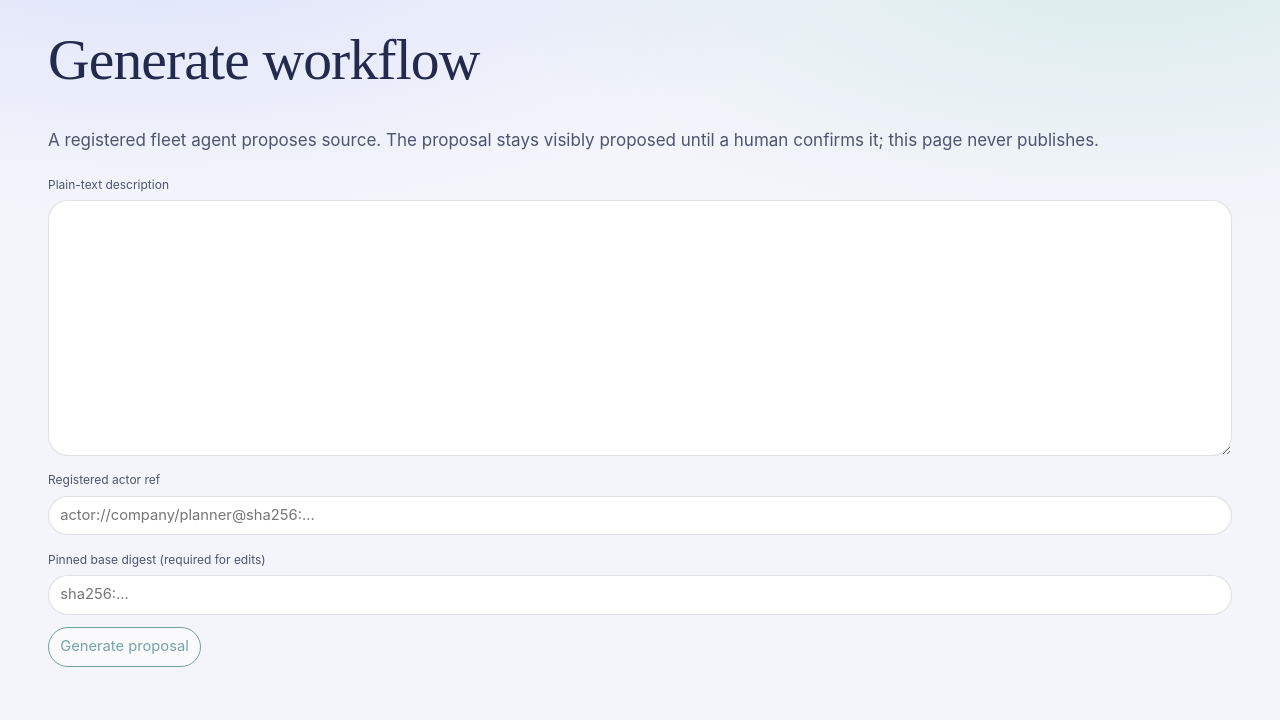
GenerateWorkflow › says the agent is still working when no source has arrived yet
The image size is (1280, 720).
Type "sweep open PRs and triage them" into the text box labelled "Plain-text description".
click(640, 328); type("sweep open PRs and triage them")  # box [48, 200, 1232, 456]
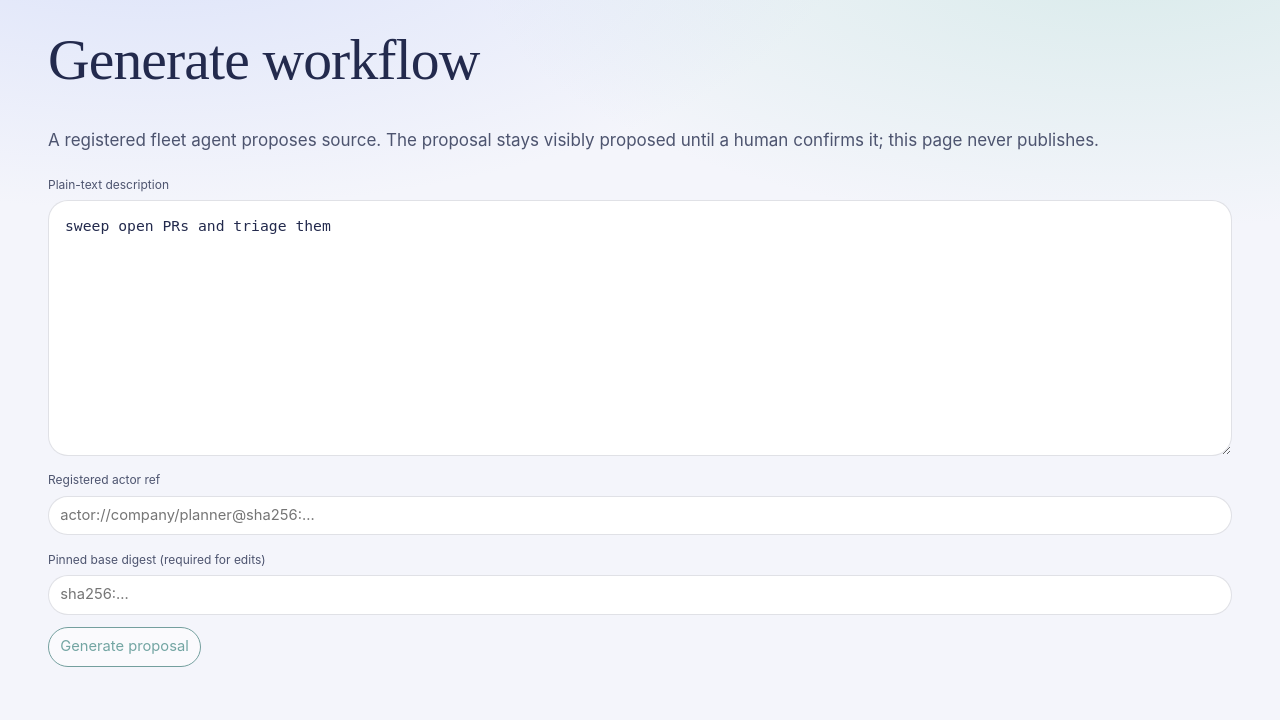
Type "actor://company/planner@sha256:aaaa" into the field labelled "Registered actor ref".
click(640, 515); type("actor://company/planner@sha256:aaaa")  # box [48, 496, 1232, 535]
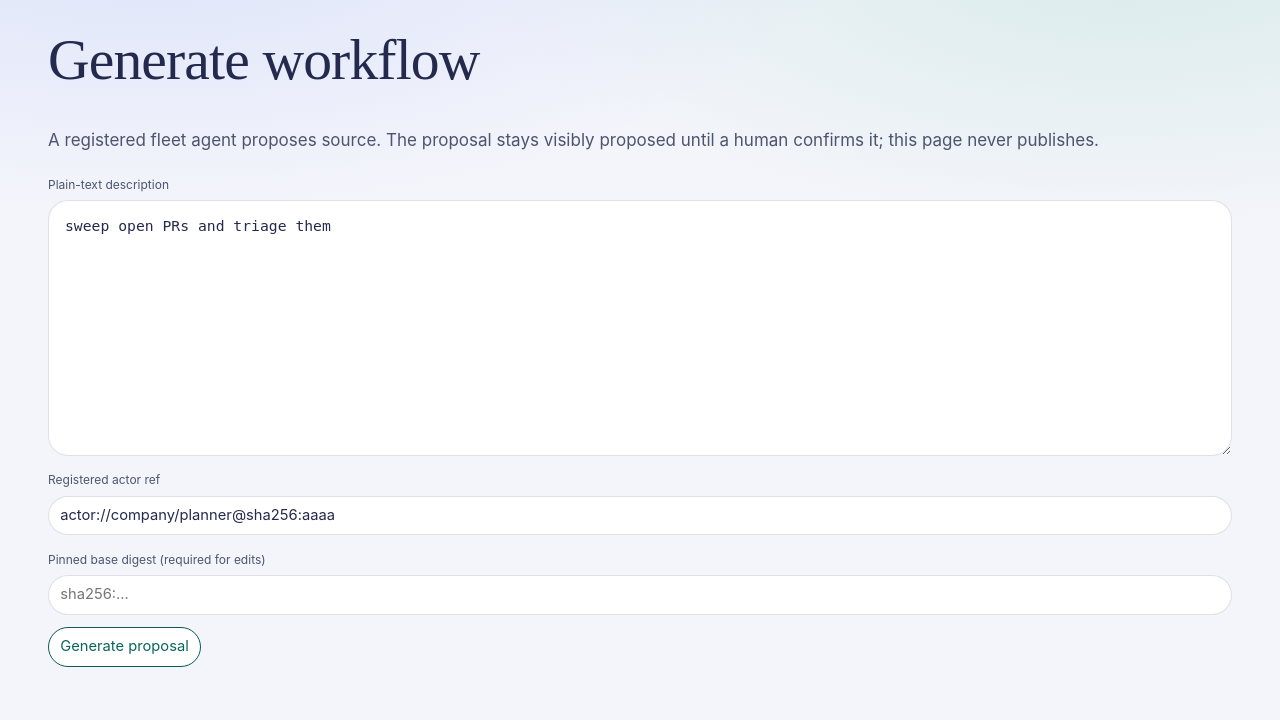
Click the button "Generate proposal".
click(124, 647)  # box [48, 627, 201, 666]
(page scrolled)
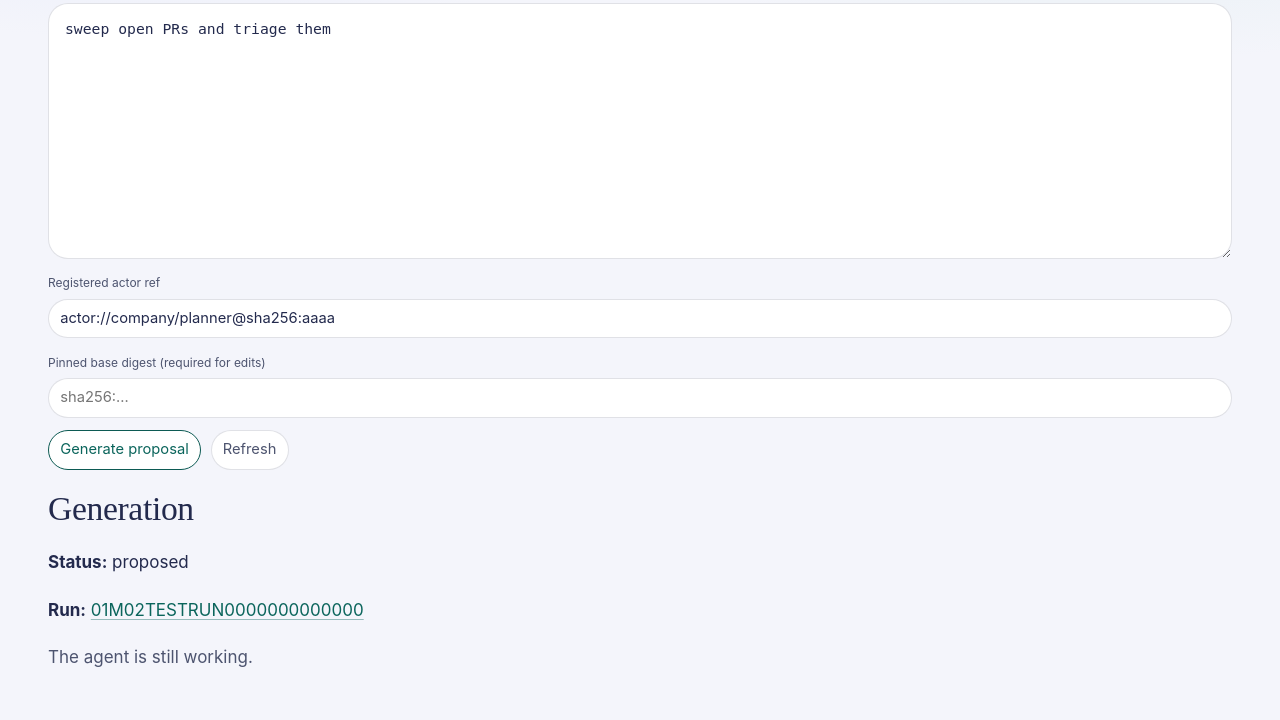
Result: the text "The agent is still working." is shown at [48, 647, 253, 667]
